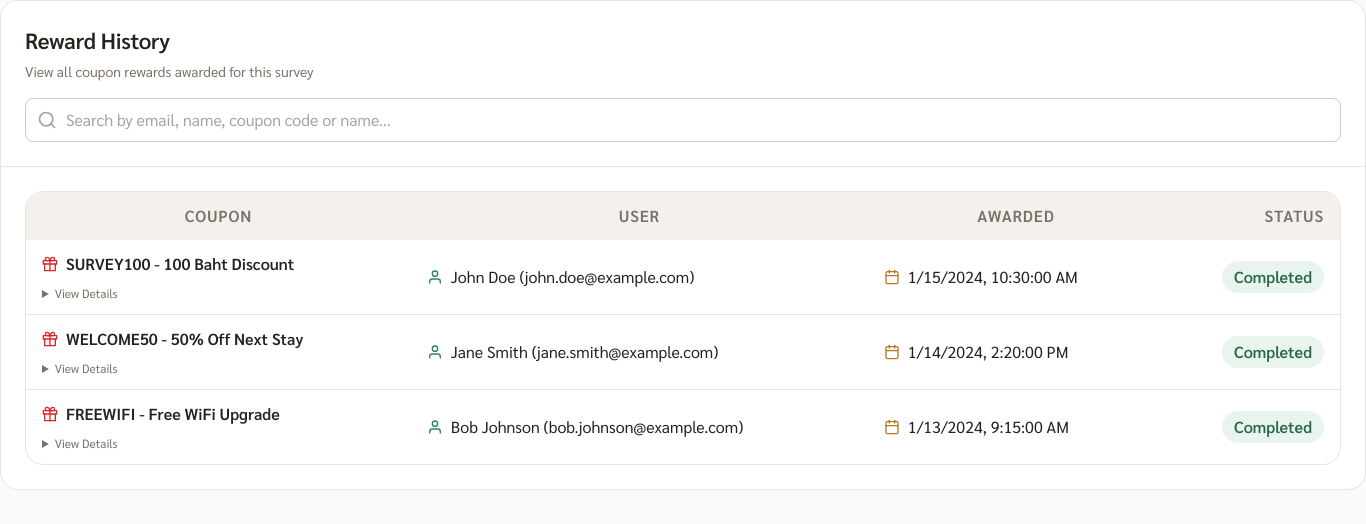
Scenario: SurveyRewardHistory › Empty Search Results › should show different message when search returns no results
Expected: the text "John Doe (john.doe@example.com)" is shown, [451,265,694,289]
Type "nonexistent@example.com" into the field with placeholder "Search by email, name, coupon code or name..." at x=683, y=120, box [25,98,1341,142]
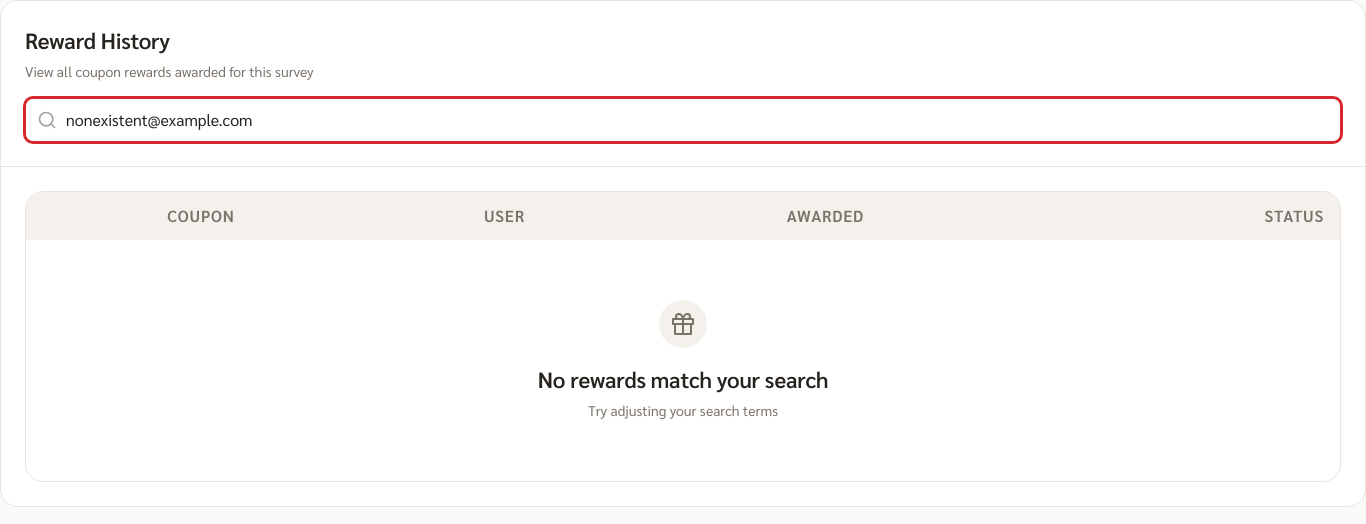
Now the heading "No rewards match your search" is shown, box [538,364,828,396]
